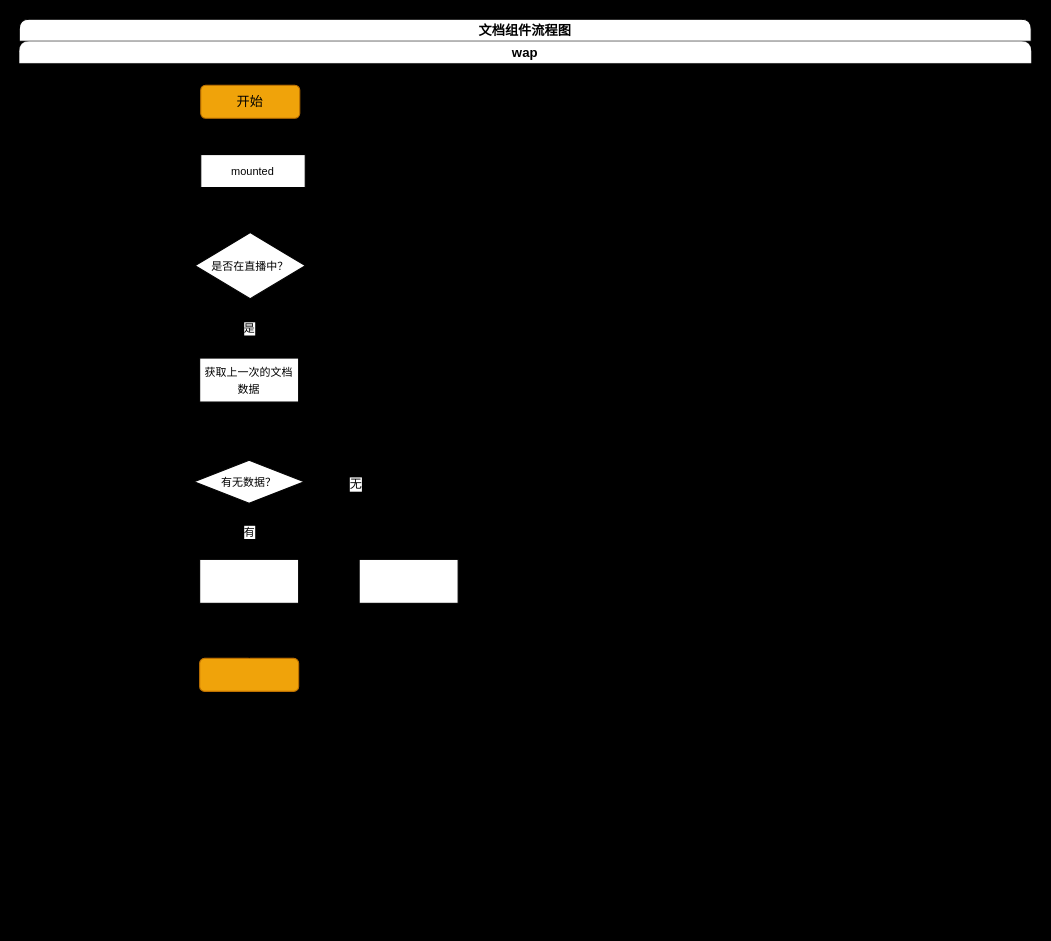
Some shapes in this 1051 by 941 pixel diagram are drawn without their labels. The shapes that lost their labels are listed below. From the top down, each one's centre as x and y in pixels, then its label:
the point at 249,580: 展示激活的文档或白板
the point at 408,580: 展示空文档占位图
the point at 249,674: 结束
